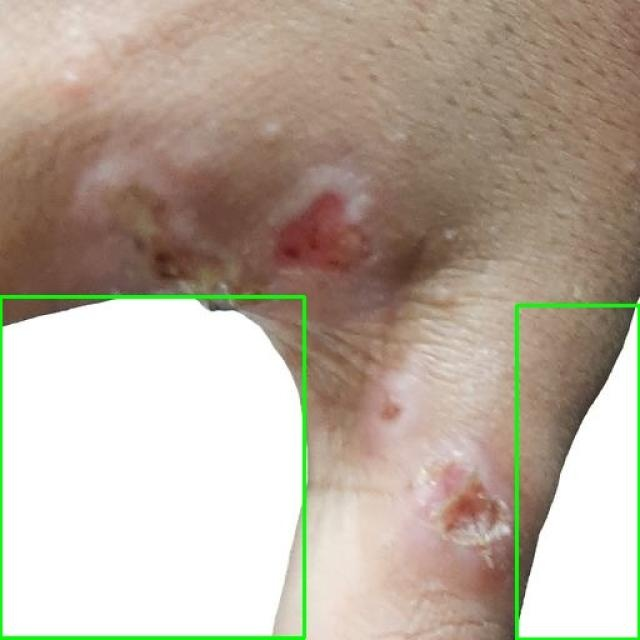Scabies: (0, 296, 305, 639), (516, 305, 639, 639)
